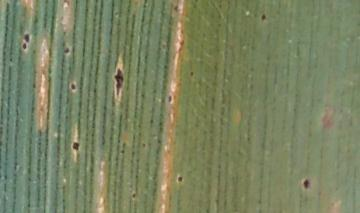tarspot: (112, 66, 125, 98), (19, 41, 28, 52), (302, 178, 310, 189), (22, 32, 30, 43), (62, 46, 71, 55), (166, 94, 173, 105), (71, 142, 79, 151), (172, 4, 180, 13), (130, 192, 138, 201), (260, 13, 267, 22), (69, 82, 76, 91), (176, 175, 183, 184), (189, 70, 194, 78), (193, 1, 198, 3)
